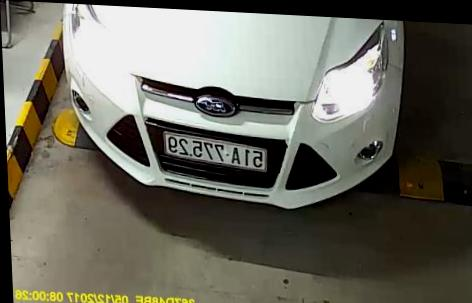License_Plate: (163, 132, 270, 173)
